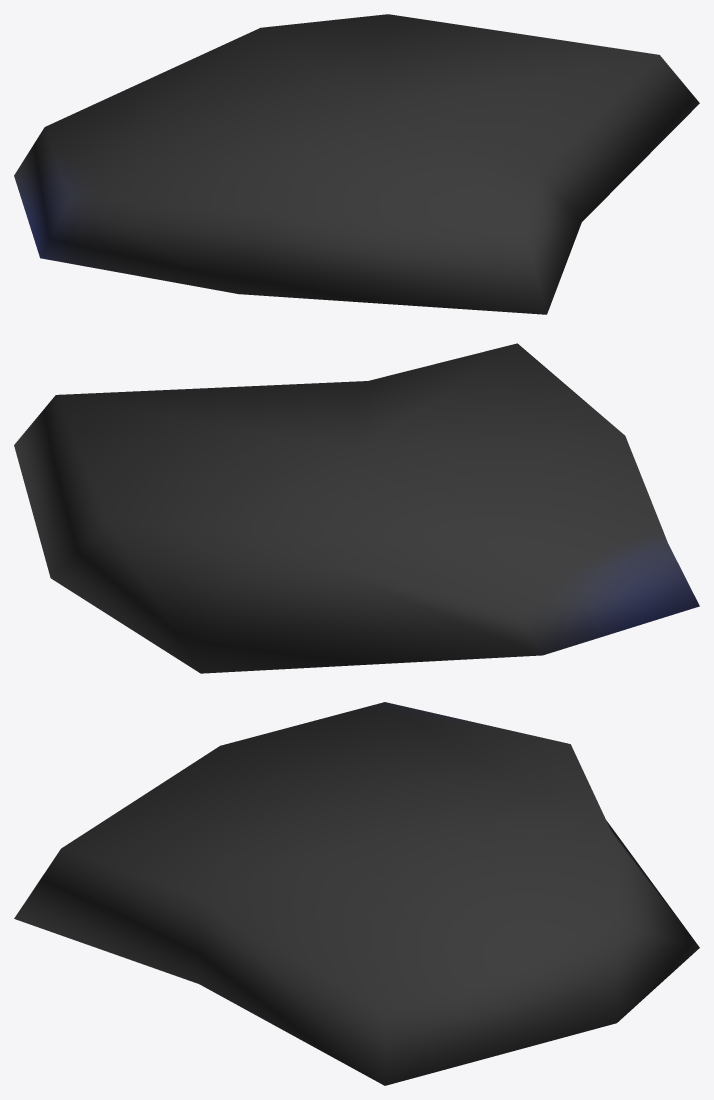
The model's file is OBJ_Rocks_001.fbx.
The picture shows the model from 3 angles, top to bottom: view 1: azimuth 30°, elevation 25°; view 2: azimuth 150°, elevation 25°; view 3: azimuth 270°, elevation 25°; orthographic projection. The views are drawn at different scales.
Visible parts, largest first — view 1: Rock_001; view 2: Rock_001; view 3: Rock_001.
Boxes of the visible parts, x1,y1,x2,y2 form: Rock_001: (14,14,699,314); Rock_001: (14,343,699,673); Rock_001: (14,702,699,1085).
Bounding box in the file's own units: 2278 × 347 × 1956.
1 material, 1 textured.
